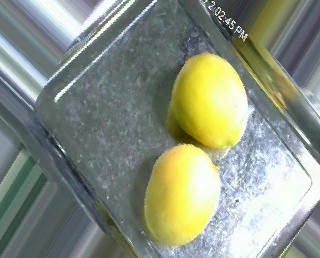Mango: (140, 142, 221, 246), (169, 51, 248, 151)
